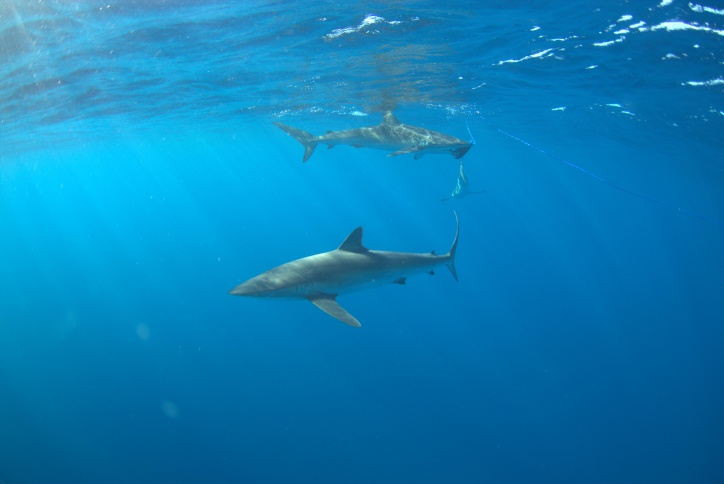Sedoso: (221, 212, 490, 334)
